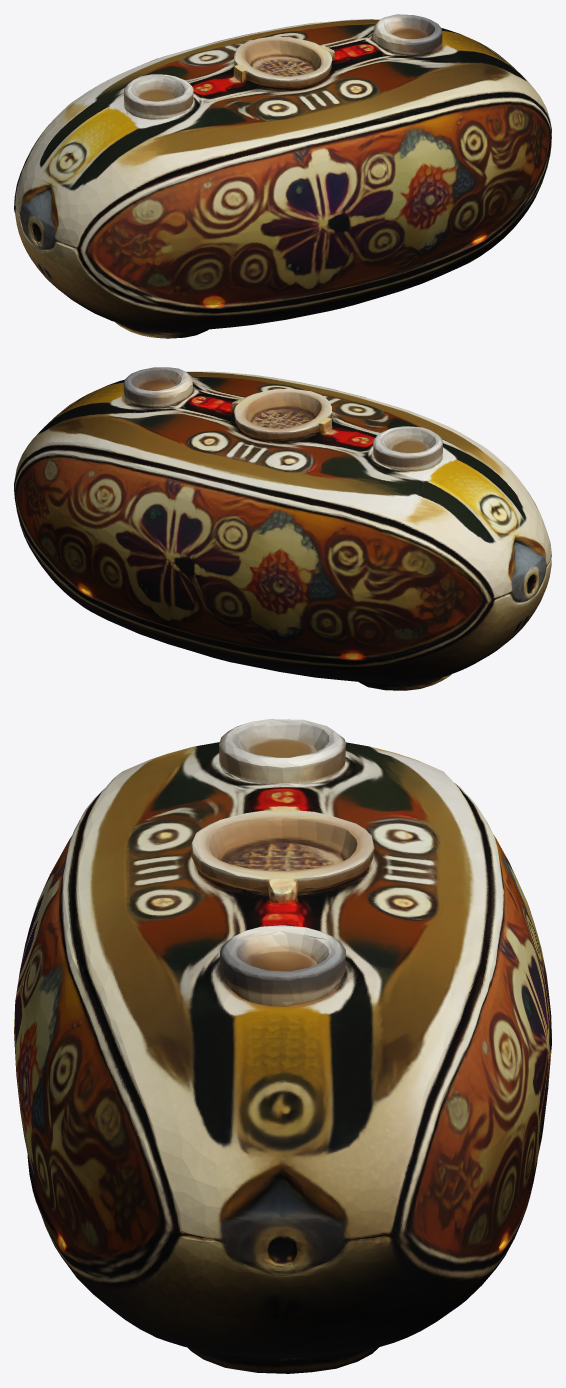
File: clay-portable-speaker-art-deco.jpeg.glb
3 views of the same model, one above another, from view 1: azimuth 30°, elevation 25°; view 2: azimuth 150°, elevation 25°; view 3: azimuth 270°, elevation 25° (orthographic). The views are drawn at different scales.
Visible parts, largest first — view 1: world; view 2: world; view 3: world.
Part boxes in pixels (x1=…): world: x1=14, y1=14, x2=551, y2=338; world: x1=14, y1=367, x2=551, y2=690; world: x1=14, y1=719, x2=551, y2=1373.
Size of the model in its own units: 0.9998 by 0.4425 by 0.5445.
1 material, 1 textured.
